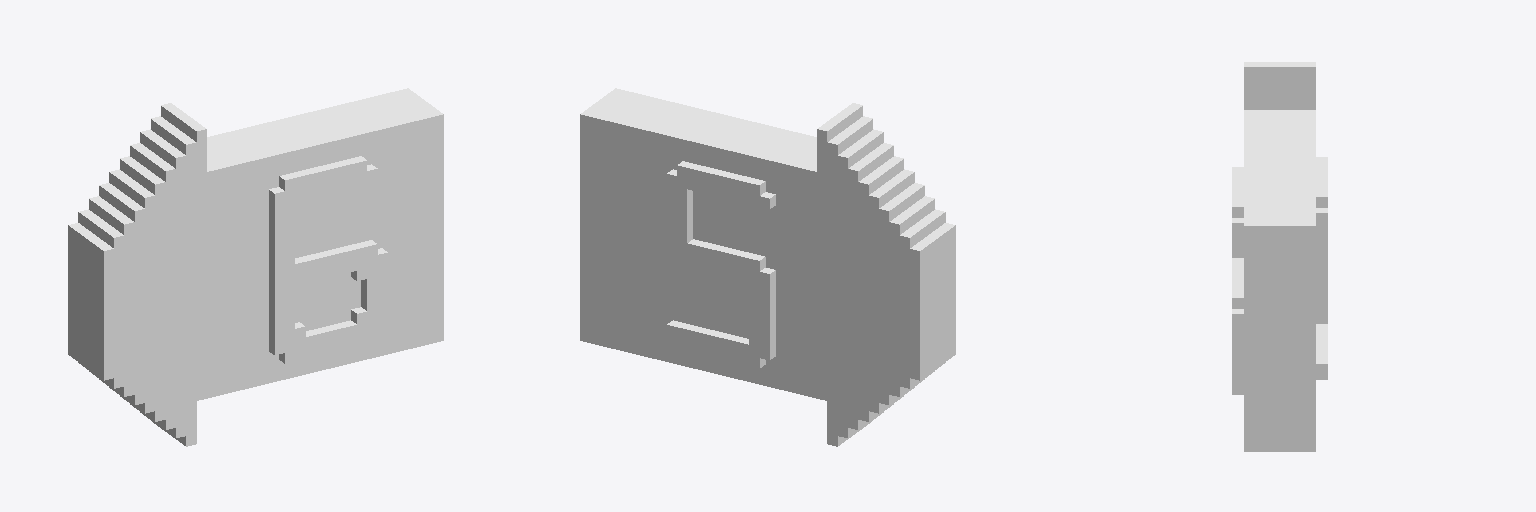
Rendered from besalti.obj.
3 renders of one model, left to right at view 1: azimuth 30°, elevation 25°; view 2: azimuth 150°, elevation 25°; view 3: azimuth 270°, elevation 25°, orthographic.
Parts seen in each view (by area): view 1: object 1; view 2: object 1; view 3: object 1.
Part boxes in pixels (bbox=[...]): object 1: bbox=[68, 88, 443, 446]; object 1: bbox=[580, 88, 955, 446]; object 1: bbox=[1232, 62, 1327, 451].
Bounding box in the file's own units: 3.3 × 2.9 × 0.8.